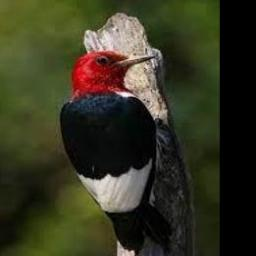Woodpecker: (56, 51, 172, 256)
